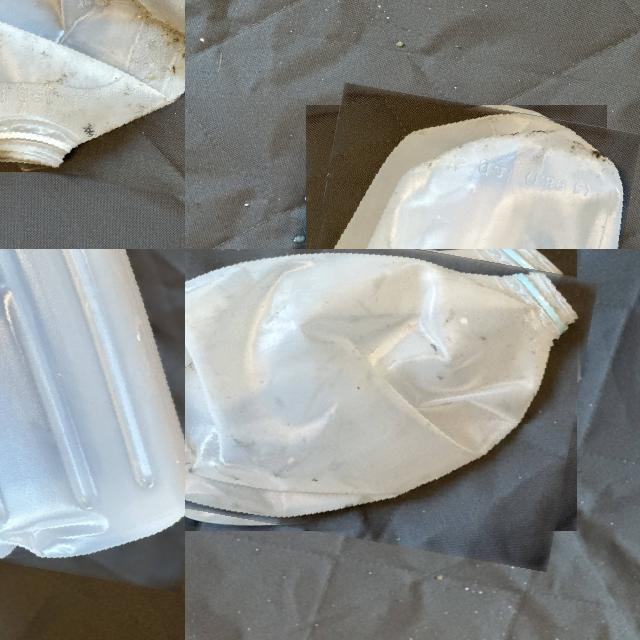milk-jug: (185, 249, 588, 550), (0, 249, 185, 574), (288, 91, 624, 249), (0, 0, 185, 184)
